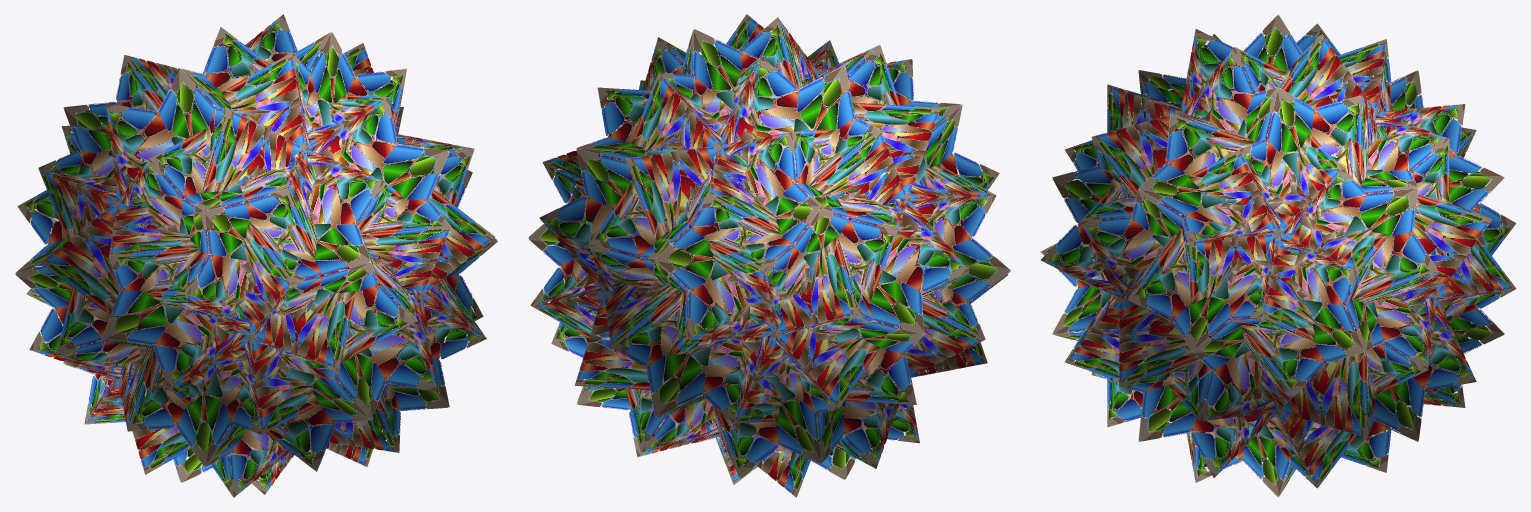
File: GreatInvertedPentagonalHexecontahedron15.gltf
3 renders of one model, left to right at view 1: azimuth 30°, elevation 25°; view 2: azimuth 150°, elevation 25°; view 3: azimuth 270°, elevation 25°, orthographic.
Visible parts, largest first — view 1: GreatInvertedPentagonalHexecontahedron15; view 2: GreatInvertedPentagonalHexecontahedron15; view 3: GreatInvertedPentagonalHexecontahedron15.
Part boxes in pixels (x1,y1,x2,y2): GreatInvertedPentagonalHexecontahedron15: [15, 14, 497, 497]; GreatInvertedPentagonalHexecontahedron15: [528, 14, 1010, 497]; GreatInvertedPentagonalHexecontahedron15: [1040, 14, 1516, 497].
Bounding box in the file's own units: 1.13 × 1.13 × 1.13.
Materials: 1 (1 with a texture image).
